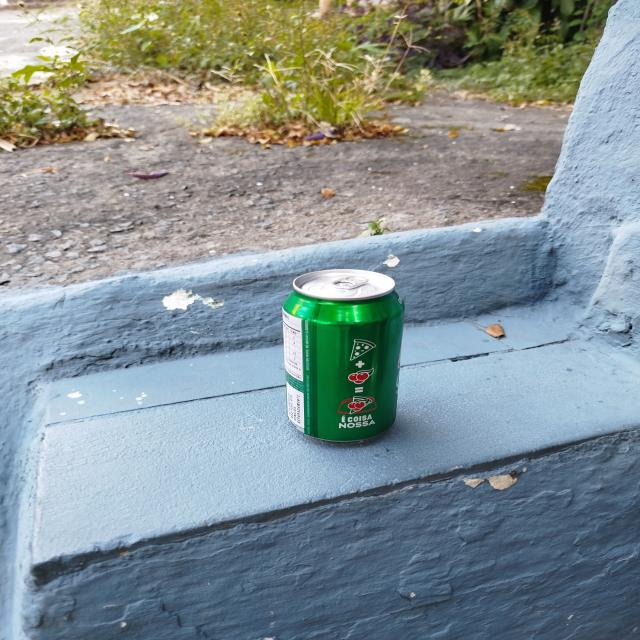Guarana: (284, 270, 406, 440)
